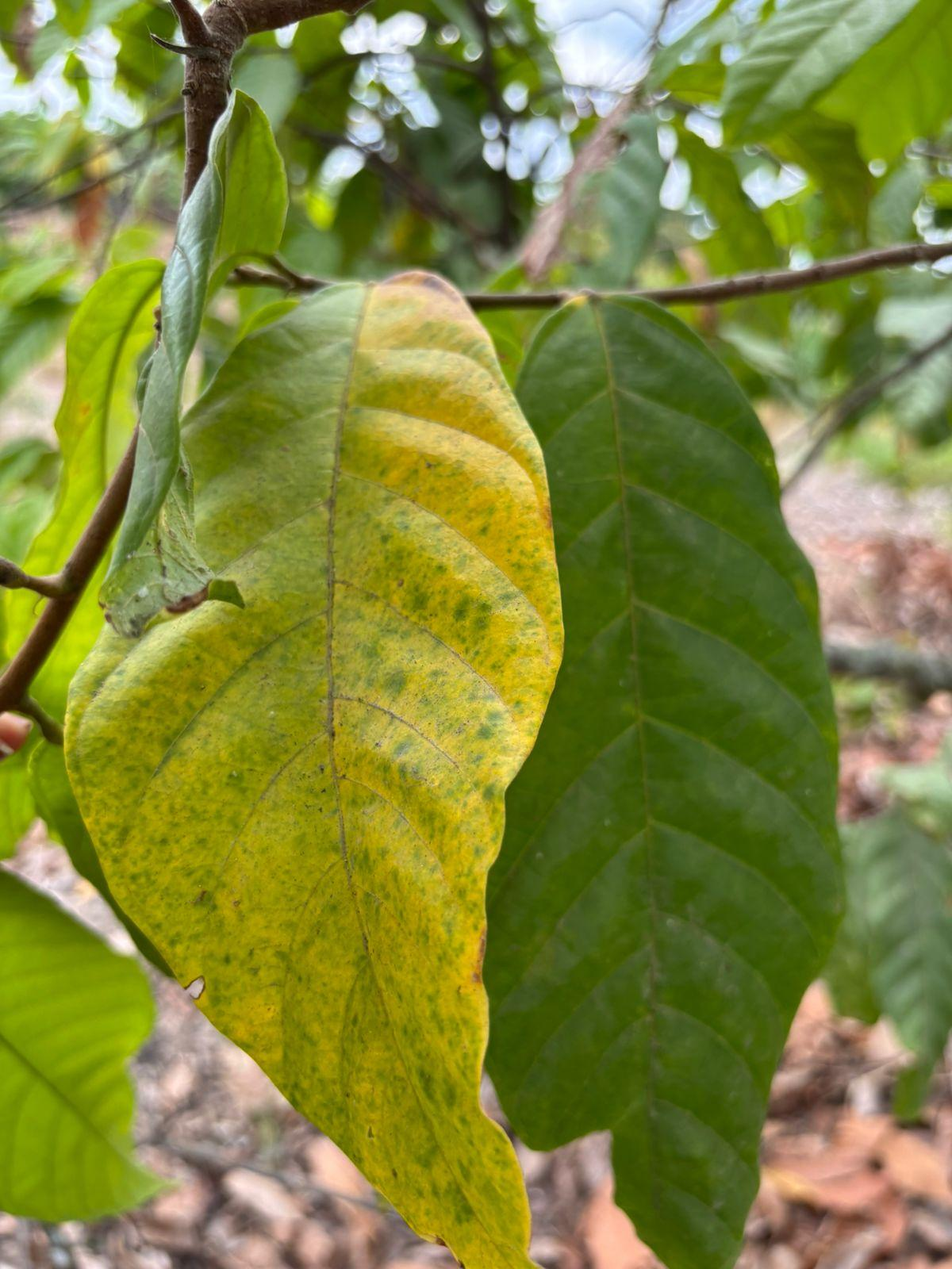deficienciia_fosforo: (67, 274, 562, 1268)
